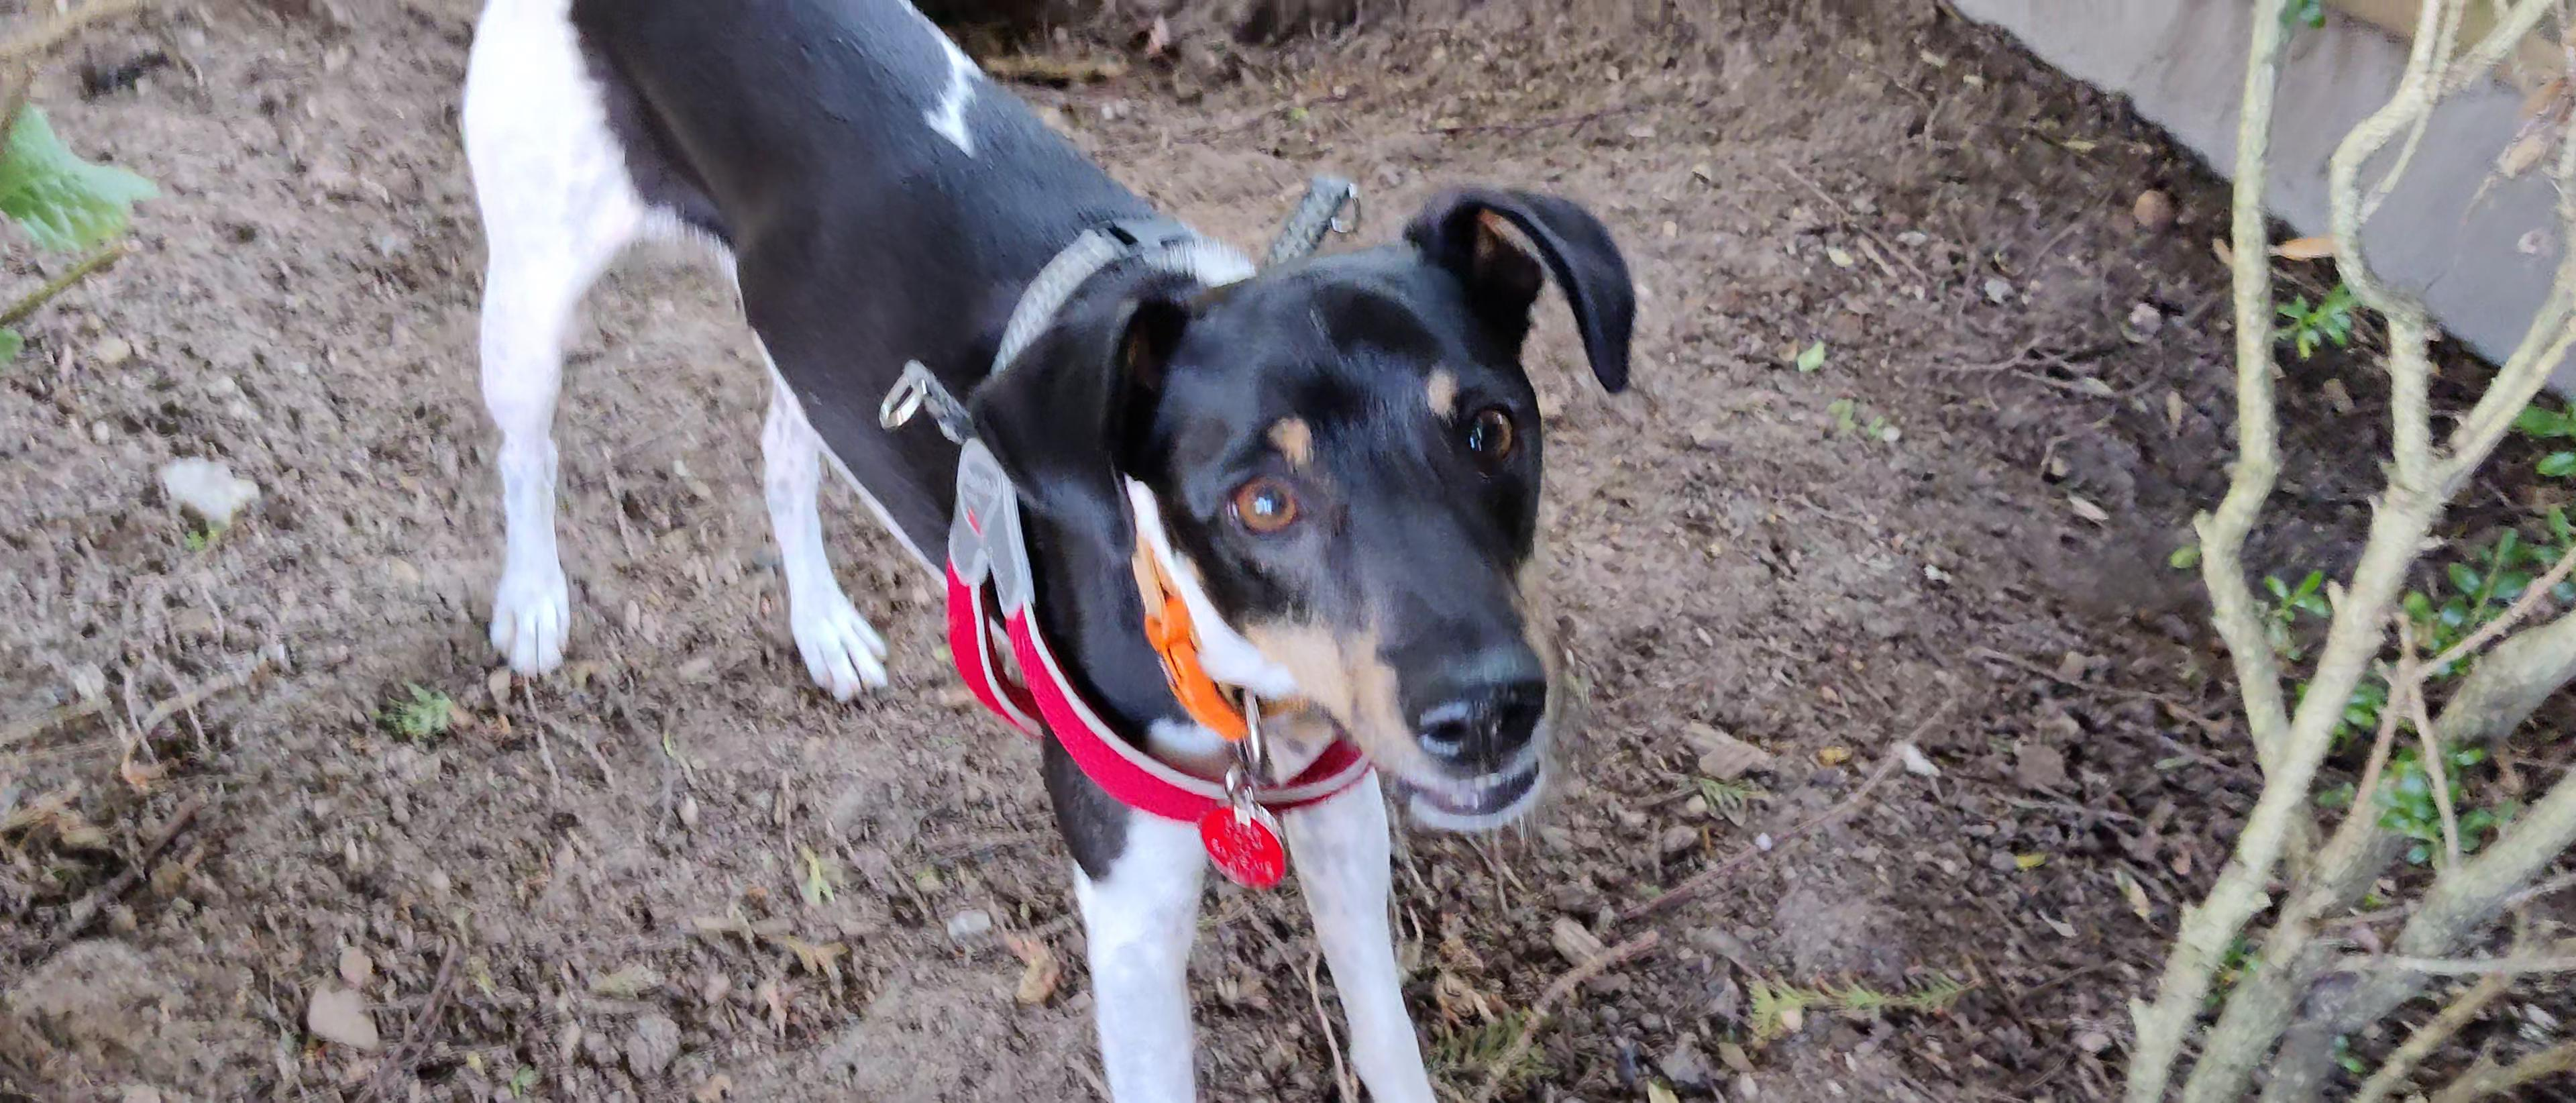Dog: (414, 0, 1681, 1103)
